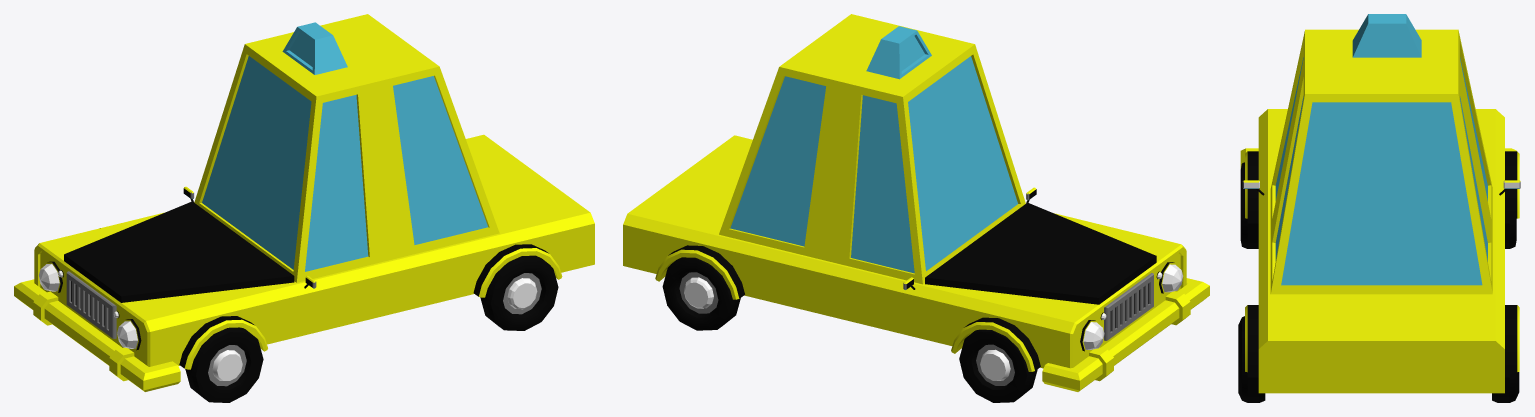
File: Taxi_Game (1).fbx
3 views of the same model, side by side, from view 1: azimuth 30°, elevation 25°; view 2: azimuth 150°, elevation 25°; view 3: azimuth 270°, elevation 25° (orthographic). The views are drawn at different scales.
Parts seen in each view (by area): view 1: Box001, RL, FL; view 2: Box001, RR, FR; view 3: Box001, RL, FL, RR, FR.
Part boxes in pixels (x1,y1,x2,y2): Box001: (14, 14, 594, 391); RL: (480, 255, 558, 330); FL: (185, 327, 263, 402); Box001: (623, 14, 1209, 391); RR: (662, 257, 740, 330); FR: (959, 329, 1037, 402); Box001: (1240, 14, 1520, 393); RL: (1238, 316, 1265, 402); FL: (1240, 162, 1258, 248); RR: (1492, 372, 1519, 402); FR: (1505, 218, 1516, 248).
Bounding box in the file's own units: 6612 × 3908 × 3266.
